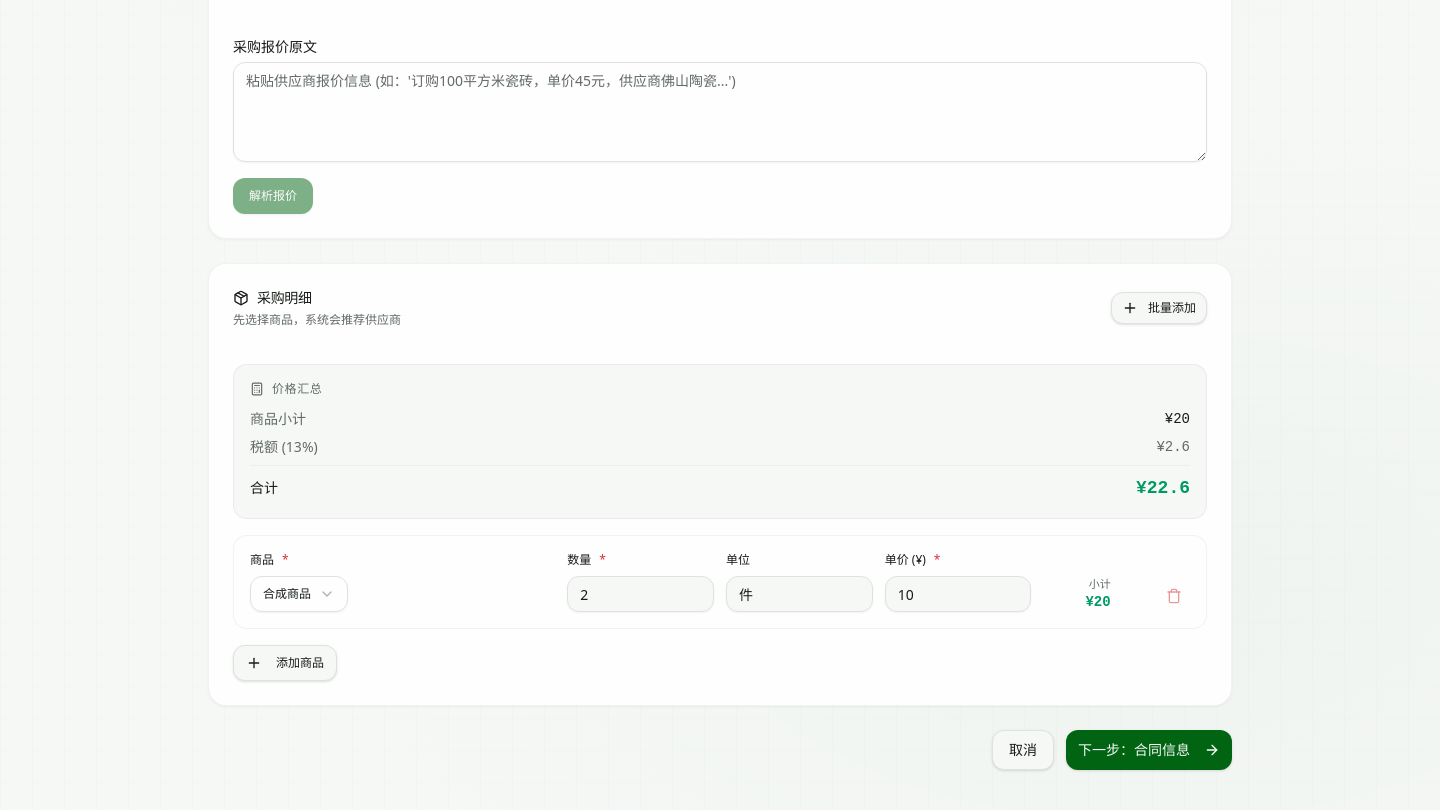
Test: purchase inline supplier editor sessions (synthetic fixtures) › failed save keeps optional draft values and retries only on request
(page scrolled)
Expected: the number field labelled "数量 *" holds "2", [567,576,714,612]
Click the button "下一步：合同信息" at (1149,750), box [1066,730,1232,770]
(page scrolled)
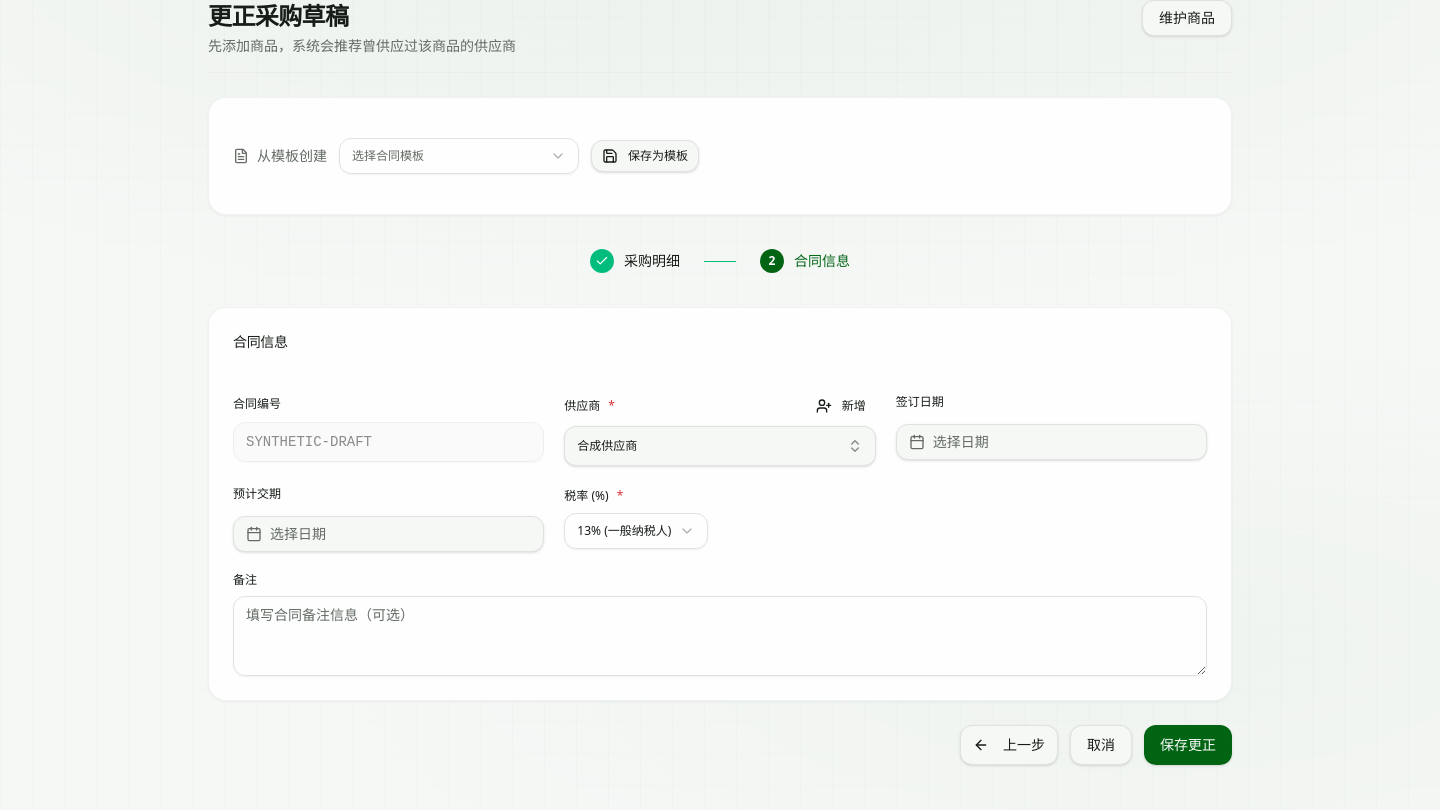
Click the button "新增" at (841,406), box [806,394,876,418]
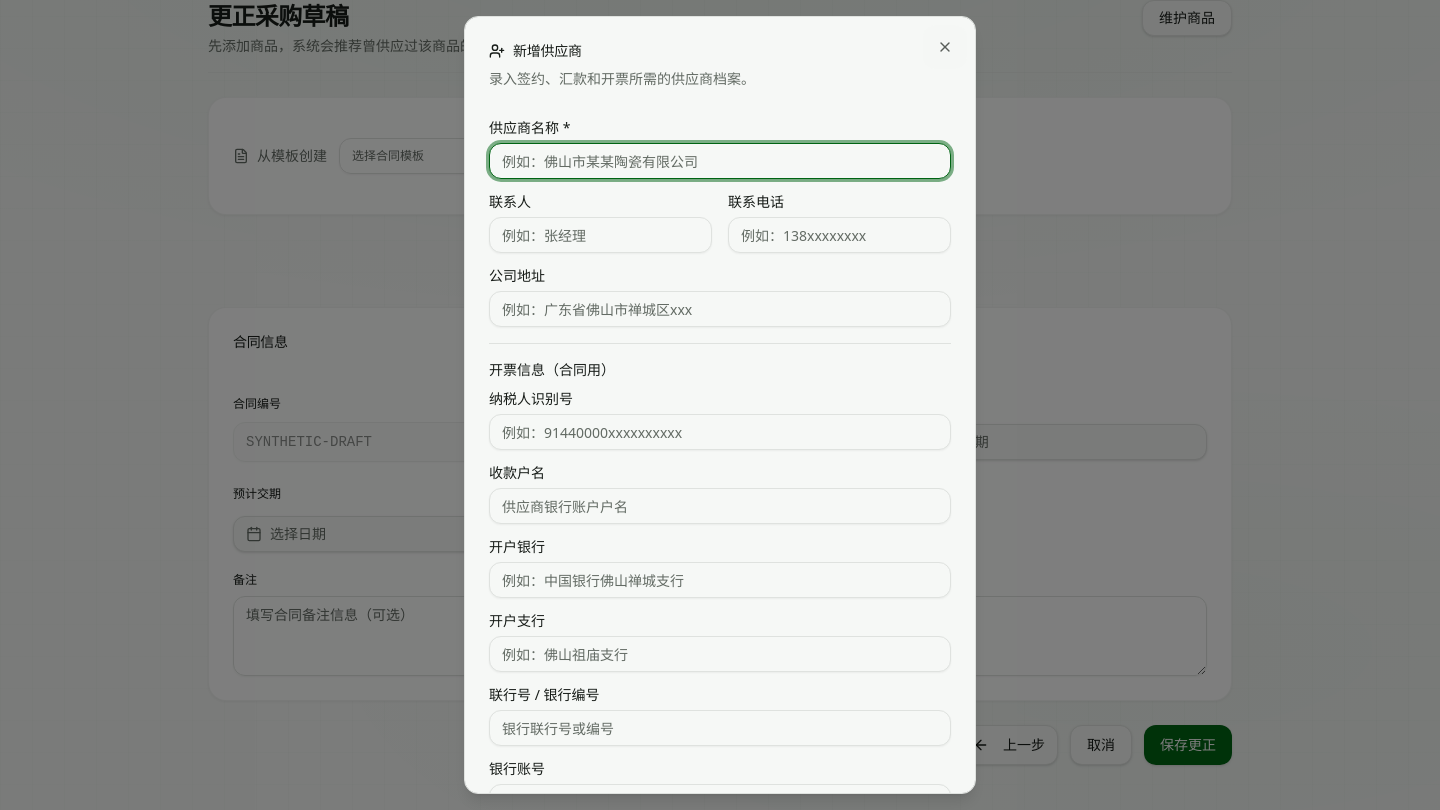
Type "合成已提交供应商" into the field labelled "供应商名称 *" at (720,161), box [489,143,951,179]
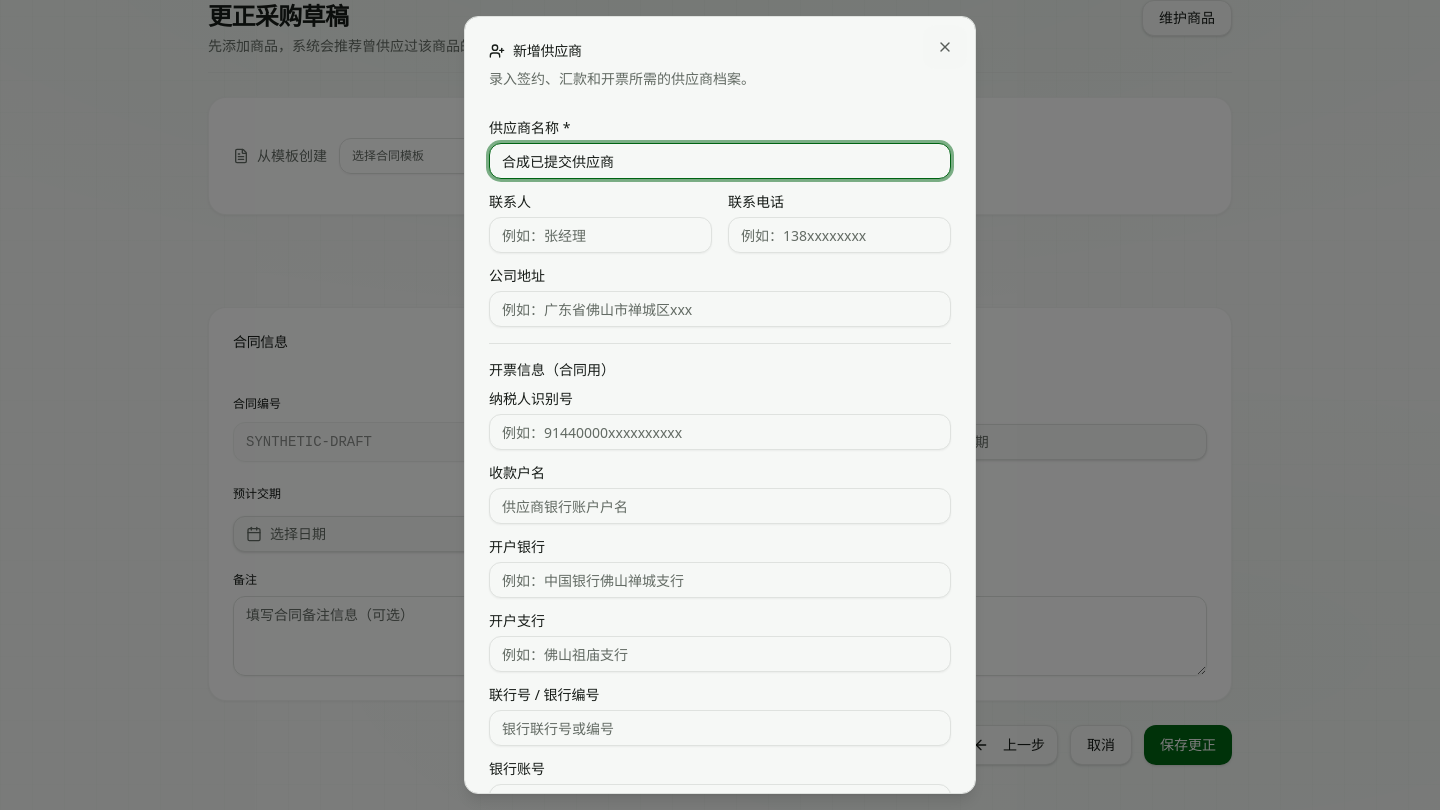
Type "合成联系人" into the field labelled "联系人" at (600,235), box [489,217,712,253]
(page scrolled)
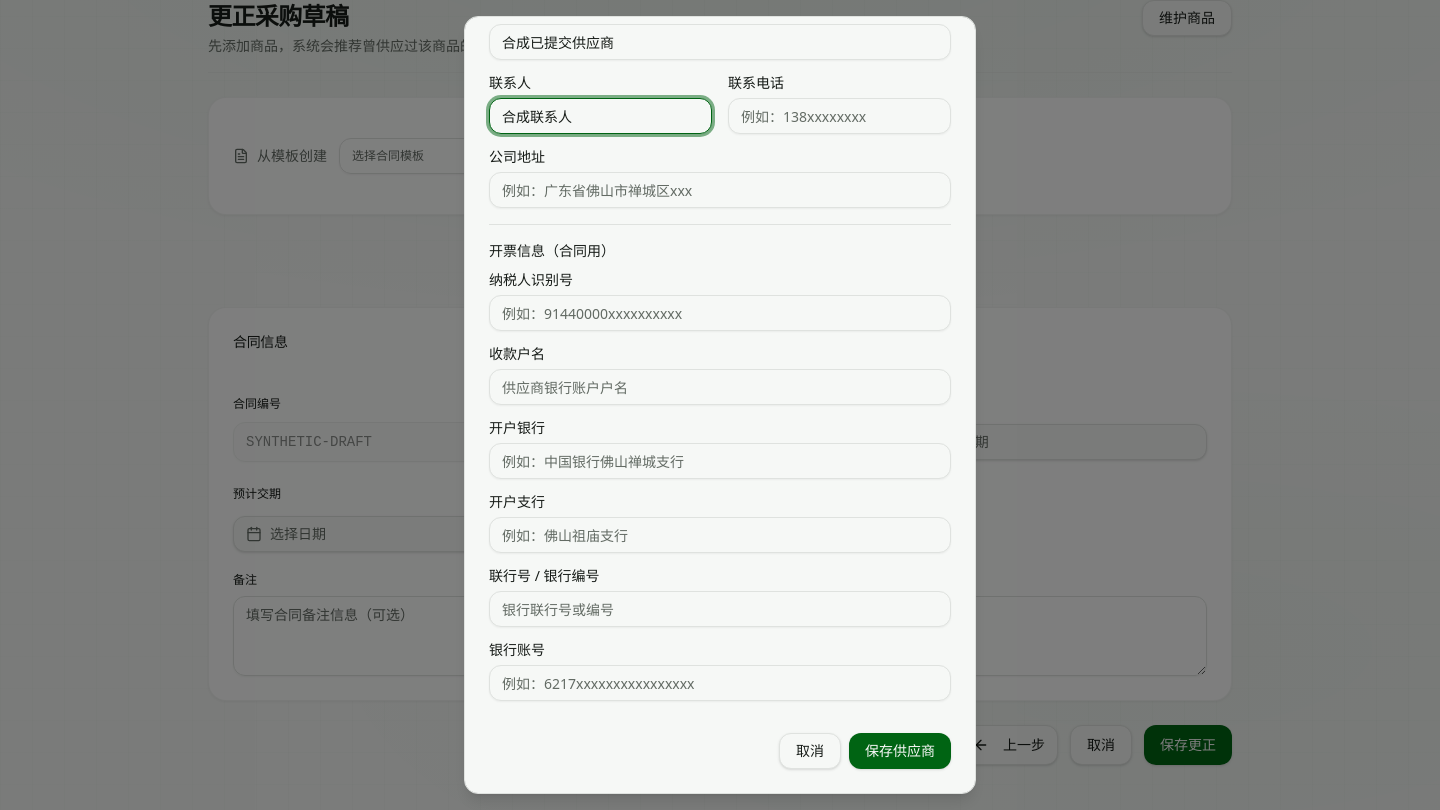
Click the button "保存供应商" at (900,751), box [849,733,951,769]
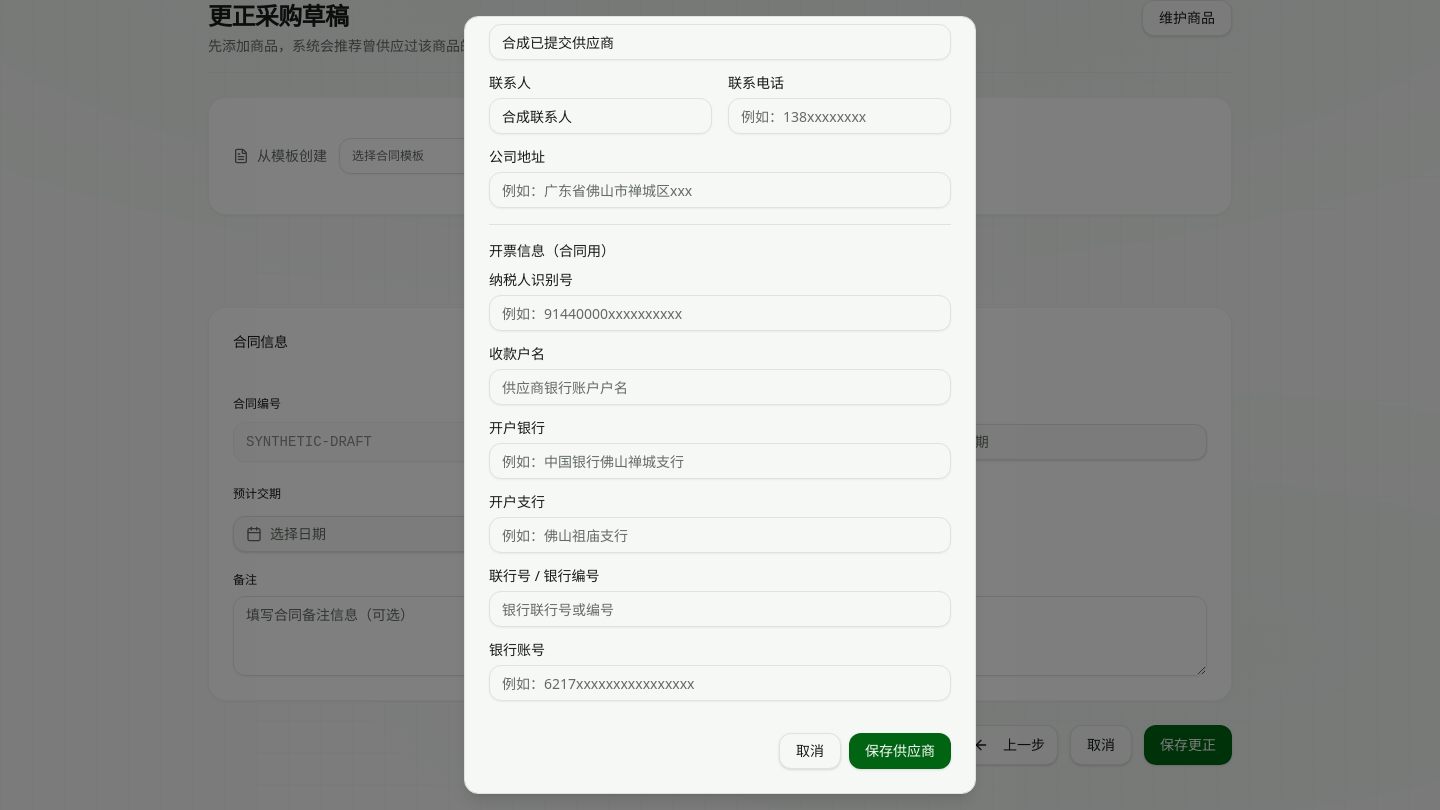
Click the button "保存供应商" at (900,751), box [849,733,951,769]
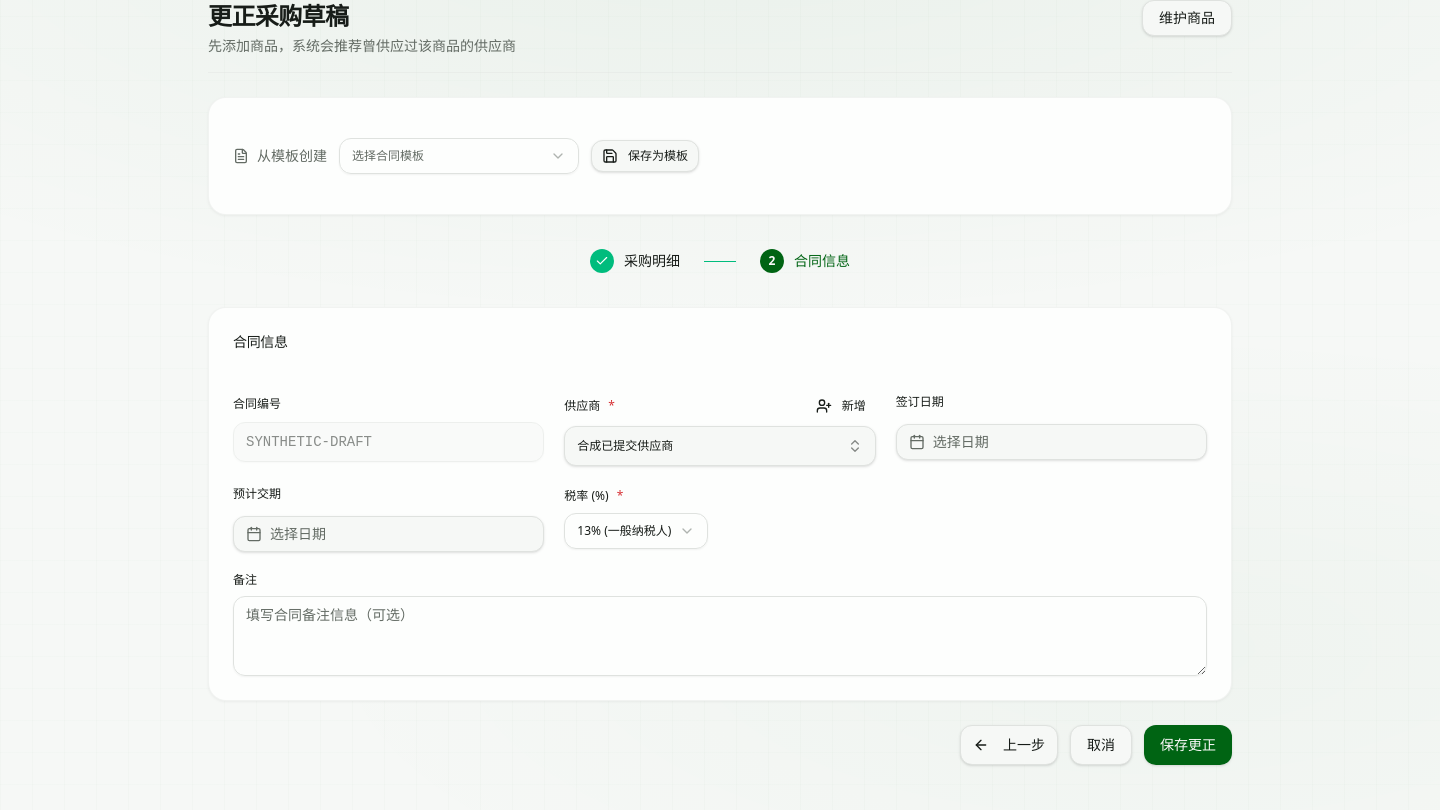
Now the dialog is gone
Now the dropdown labelled "合成已提交供应商" is shown, box [564,426,876,466]
